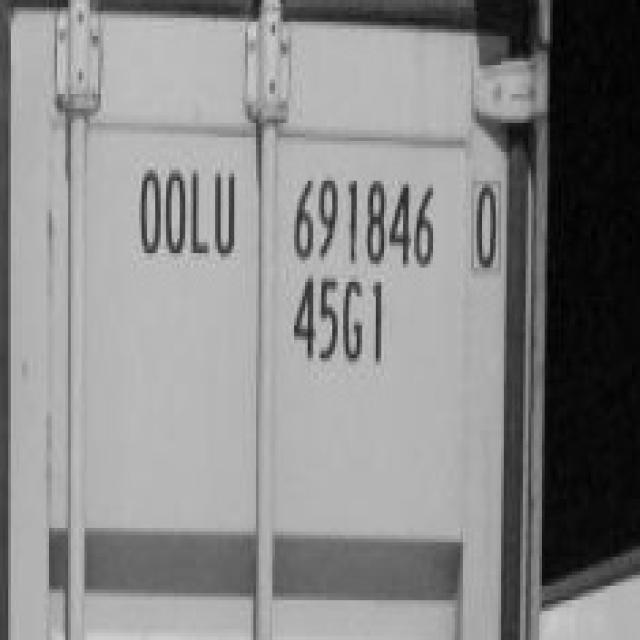dv: (461, 177, 505, 281)
owner: (120, 148, 240, 268)
serial: (274, 164, 441, 270)
size: (278, 270, 403, 377)
